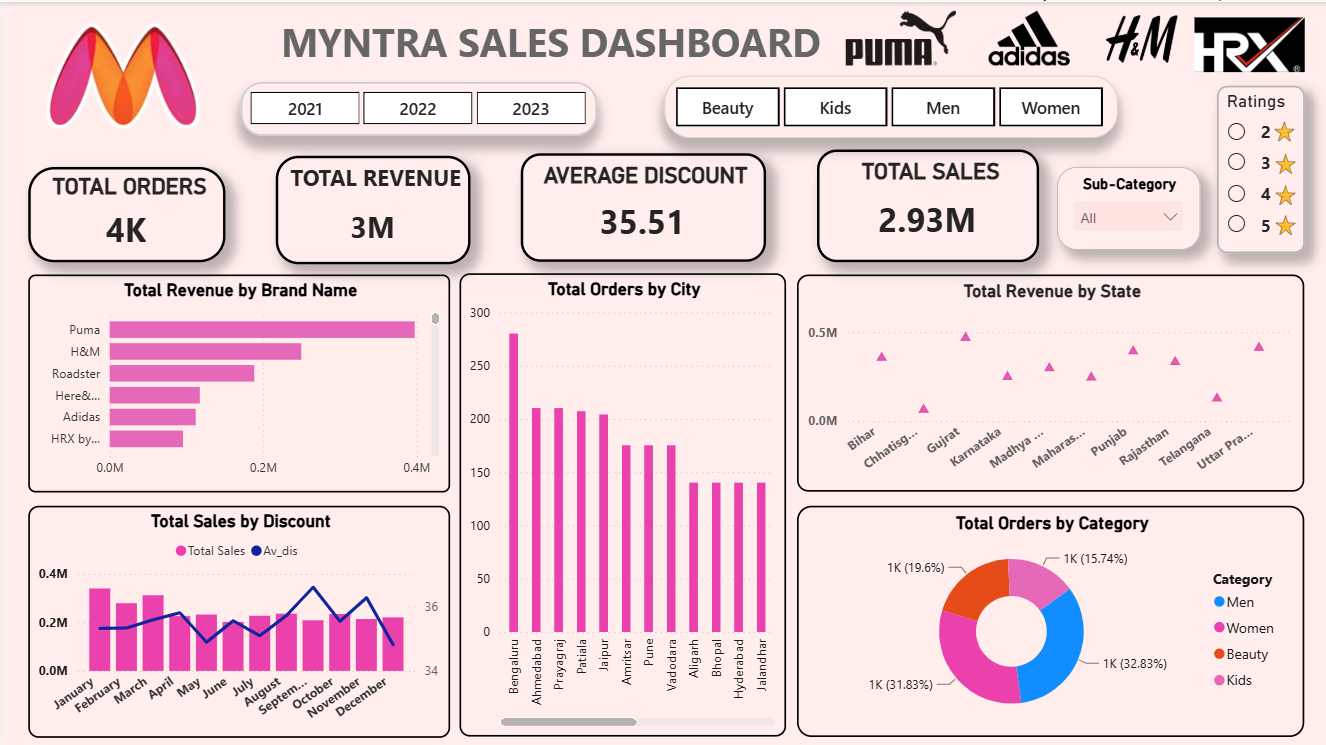

Layout of this report page (visuals, bound fields, positions):
{"tool":"powerbi","page":{"name":"Page 1","canvas":[1280,720],"ordinal":0},"visuals":[{"type":"image","box":[39.8,0,155.6,146],"z":0},{"type":"advancedSlicerVisual","fields":{"Values":["fact_orders.Date.Variation.Date Hierarchy.Year"]},"box":[230.4,77.2,343.8,51.9],"z":1000},{"type":"advancedSlicerVisual","fields":{"Values":["dim_products.Category"]},"box":[639.4,71.2,437.9,60.3],"z":2000},{"type":"clusteredBarChart","title":"Total Revenue by Brand Name","fields":{"Y":["fact_orders.Total revenue"],"Category":["dim_products.Brand Name"]},"box":[25.7,262.9,407.2,210.3],"z":3000},{"type":"lineStackedColumnComboChart","title":"Total Sales by Discount","fields":{"Y2":["dim_customers.Av_dis"],"Y":["fact_orders.Total Sales"],"Category":["fact_orders.Date.Variation.Date Hierarchy.Month"]},"box":[25.7,486.7,407.2,223.8],"z":4000},{"type":"ribbonChart","fields":{"Category":["dim_customers.City"],"Y":["fact_orders.Total Orders"]},"box":[441.6,261.8,314.9,447.6],"z":5000},{"type":"donutChart","fields":{"Category":["dim_products.Category"],"Y":["fact_orders.Total Orders"]},"box":[767.3,486.2,489.8,223.2],"z":6000},{"type":"textbox","box":[230.4,8.4,598.4,65.1],"z":7000},{"type":"cardVisual","title":"AVERAGE DISCOUNT","fields":{"Data":["dim_customers.Av_dis"]},"box":[500.7,146,236.5,105],"z":8000},{"type":"cardVisual","title":"TOTAL SALES","fields":{"Data":["fact_orders.Total Sales"]},"box":[786.6,142.4,214.7,108.6],"z":9000},{"type":"cardVisual","title":"TOTAL REVENUE","fields":{"Data":["fact_orders.Total revenue"]},"box":[264.2,148.4,188.2,105],"z":10000},{"type":"cardVisual","title":"TOTAL ORDERS","fields":{"Data":["fact_orders.Total Orders"]},"box":[25.3,159.3,190.6,91.7],"z":11000},{"type":"scatterChart","title":"Total Revenue by State","fields":{"X":["dim_customers.State"],"Y":["fact_orders.Total revenue"]},"box":[767.3,263,489.8,209.9],"z":12000},{"type":"listSlicer","fields":{"Values":["dim_products.Ratings"]},"box":[1172.7,80.8,84.5,161.7],"z":13000},{"type":"image","box":[1042.6,9.9,115,52],"z":14000},{"type":"image","box":[933.6,8.9,115,53],"z":15000},{"type":"image","box":[811.6,8.9,111,53],"z":16000},{"type":"image","box":[1150.9,13.3,106.2,55.5],"z":17000},{"type":"image","box":[1225.7,113.4,24.1,22.9],"z":18000},{"type":"image","box":[1227,144.8,24.1,22.9],"z":19000},{"type":"image","box":[1227,174.9,24.1,22.9],"z":20000},{"type":"image","box":[1227,203.9,24.1,22.9],"z":21000},{"type":"slicer","title":"Sub-Category","fields":{"Values":["dim_products.Sub-category"]},"box":[1018.2,159.3,138.7,79.6],"z":22001},{"type":"actionButton","box":[15.7,20.5,200.3,60.3],"z":22002}]}

Visuals, with their boxes in screenshot pixels (x1, y1, x2, y2), scaled from the page's 1280x720 canvas onto the 1326x745 screenshot:
image: {"x1": 41, "y1": 0, "x2": 202, "y2": 151}
advancedSlicerVisual - fact_orders.Date.Variation.Date Hierarchy.Year: {"x1": 239, "y1": 80, "x2": 595, "y2": 134}
advancedSlicerVisual - dim_products.Category: {"x1": 662, "y1": 74, "x2": 1116, "y2": 136}
"Total Revenue by Brand Name" clusteredBarChart: {"x1": 27, "y1": 272, "x2": 448, "y2": 490}
"Total Sales by Discount" lineStackedColumnComboChart: {"x1": 27, "y1": 504, "x2": 448, "y2": 735}
ribbonChart - dim_customers.City x fact_orders.Total Orders: {"x1": 457, "y1": 271, "x2": 784, "y2": 734}
donutChart - dim_products.Category x fact_orders.Total Orders: {"x1": 795, "y1": 503, "x2": 1302, "y2": 734}
textbox: {"x1": 239, "y1": 9, "x2": 859, "y2": 76}
"AVERAGE DISCOUNT" cardVisual: {"x1": 519, "y1": 151, "x2": 764, "y2": 260}
"TOTAL SALES" cardVisual: {"x1": 815, "y1": 147, "x2": 1037, "y2": 260}
"TOTAL REVENUE" cardVisual: {"x1": 274, "y1": 154, "x2": 469, "y2": 262}
"TOTAL ORDERS" cardVisual: {"x1": 26, "y1": 165, "x2": 224, "y2": 260}
"Total Revenue by State" scatterChart: {"x1": 795, "y1": 272, "x2": 1302, "y2": 489}
listSlicer - dim_products.Ratings: {"x1": 1215, "y1": 84, "x2": 1302, "y2": 251}
image: {"x1": 1080, "y1": 10, "x2": 1199, "y2": 64}
image: {"x1": 967, "y1": 9, "x2": 1086, "y2": 64}
image: {"x1": 841, "y1": 9, "x2": 956, "y2": 64}
image: {"x1": 1192, "y1": 14, "x2": 1302, "y2": 71}
image: {"x1": 1270, "y1": 117, "x2": 1295, "y2": 141}
image: {"x1": 1271, "y1": 150, "x2": 1296, "y2": 174}
image: {"x1": 1271, "y1": 181, "x2": 1296, "y2": 205}
image: {"x1": 1271, "y1": 211, "x2": 1296, "y2": 235}
"Sub-Category" slicer: {"x1": 1055, "y1": 165, "x2": 1198, "y2": 247}
actionButton: {"x1": 16, "y1": 21, "x2": 224, "y2": 84}
